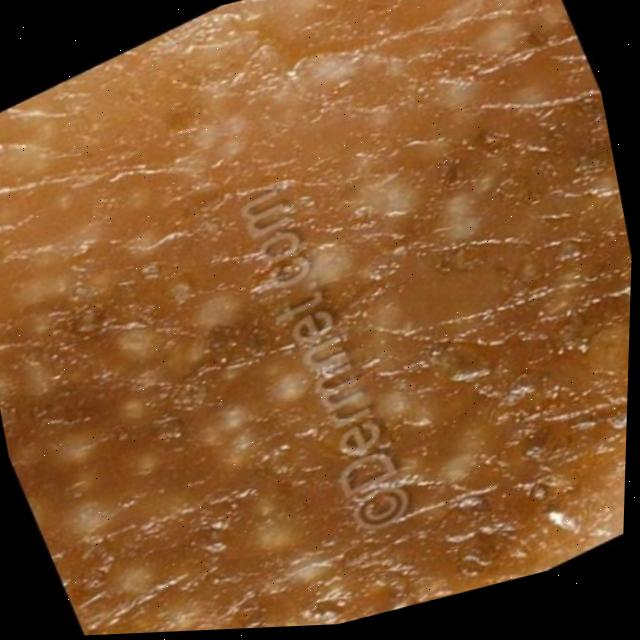Eczema: (0, 24, 638, 640)
